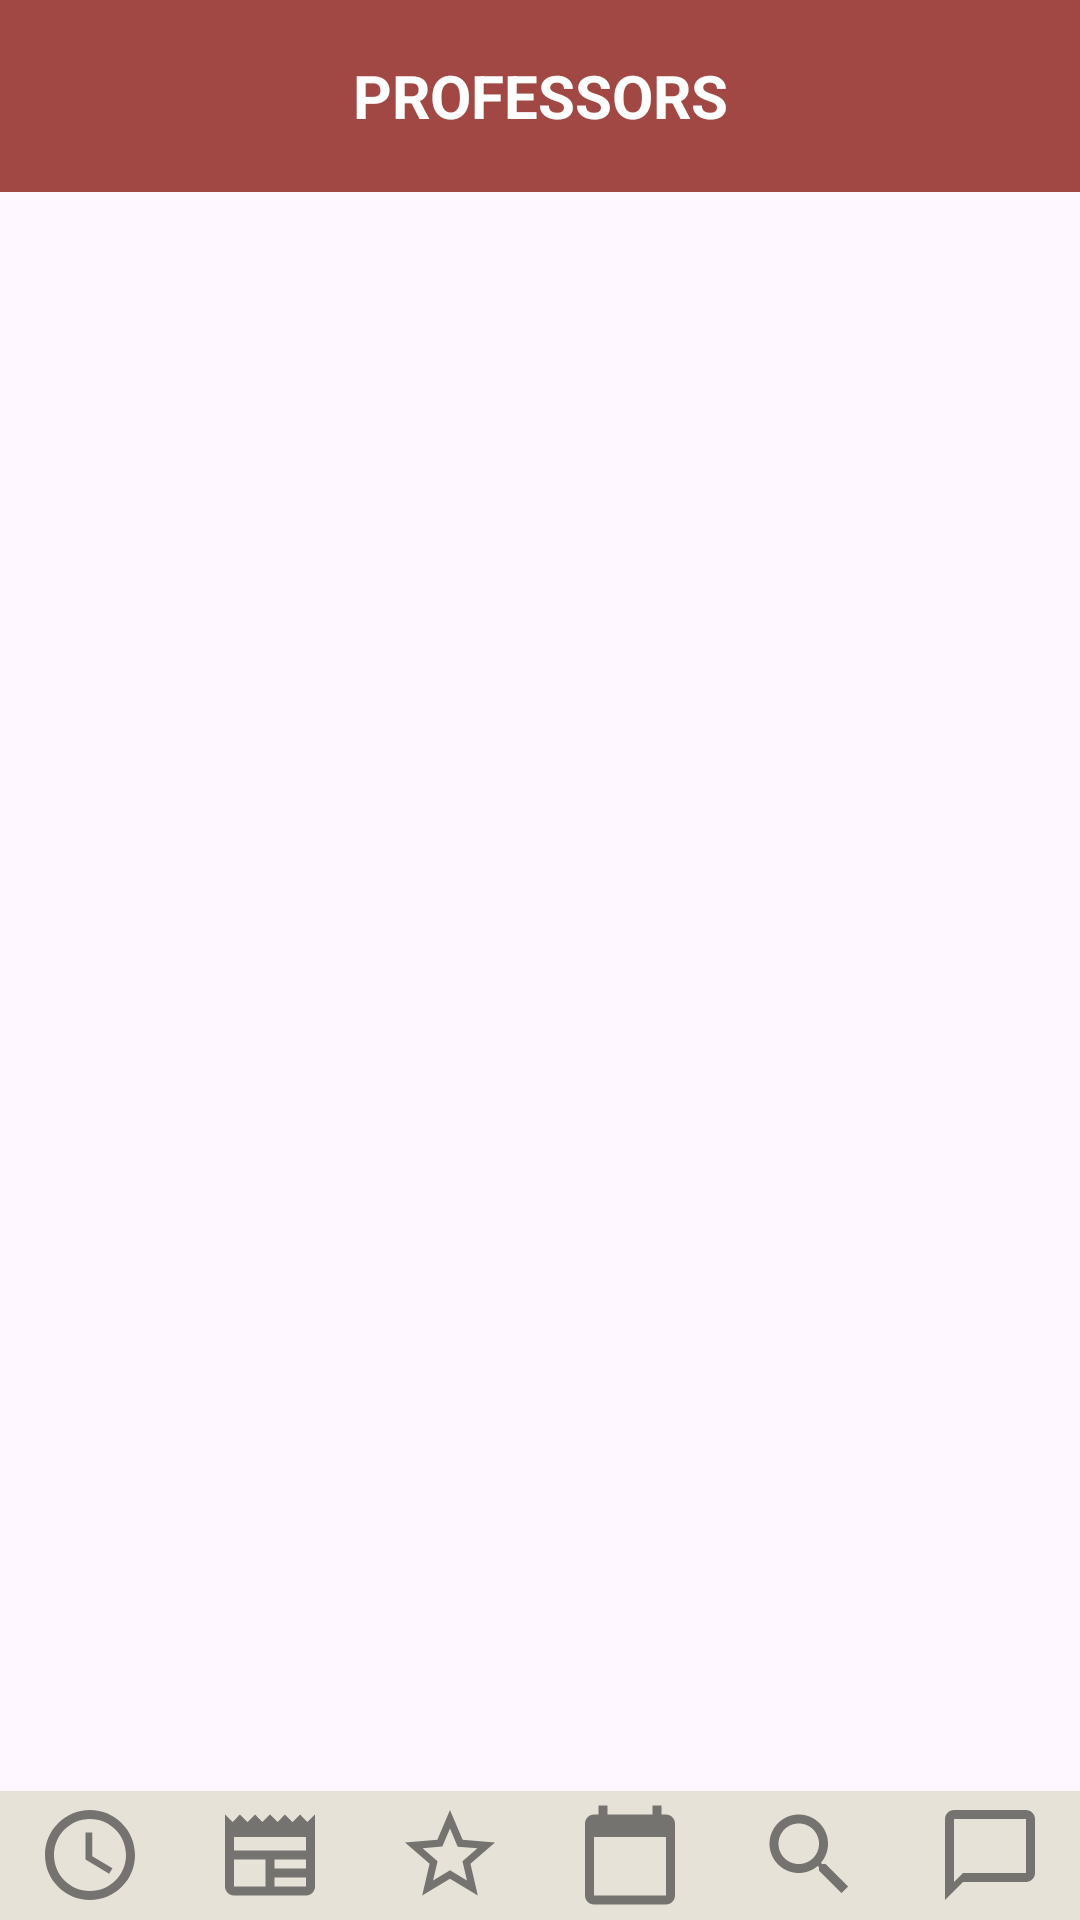

Icons on this 1080px x 1920px Android screen, each with its box as (x1, y1, x2, y2):
access time: (45, 1810, 135, 1900)
calendar today: (585, 1805, 675, 1905)
chat bubble: (945, 1810, 1035, 1900)
newspaper: (225, 1815, 315, 1896)
search: (769, 1814, 848, 1893)
star: (405, 1811, 495, 1895)
